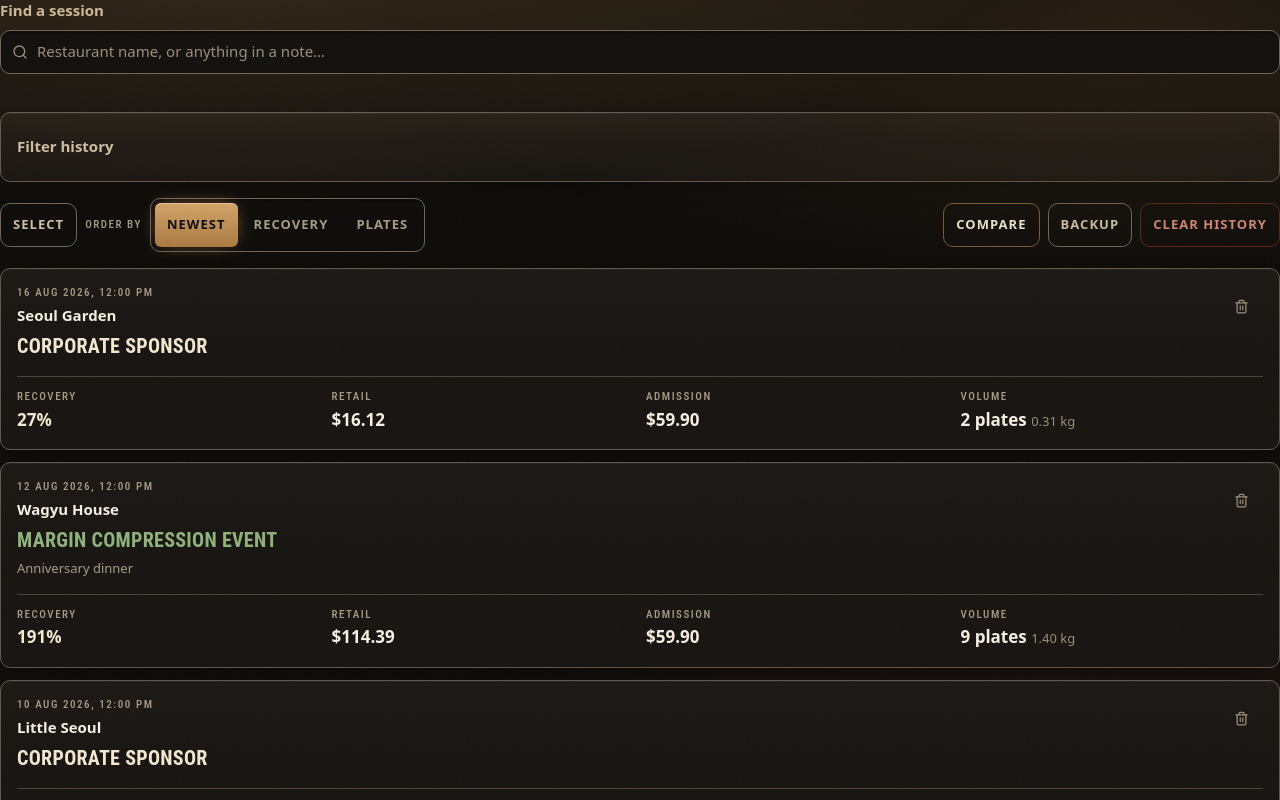
Test: HistoryList › requires confirmation before deleting one record
The width and height of the screenshot is (1280, 800).
Click the button named "delete the record from Seoul Garden".
click(1241, 307)  # box [1219, 285, 1263, 329]
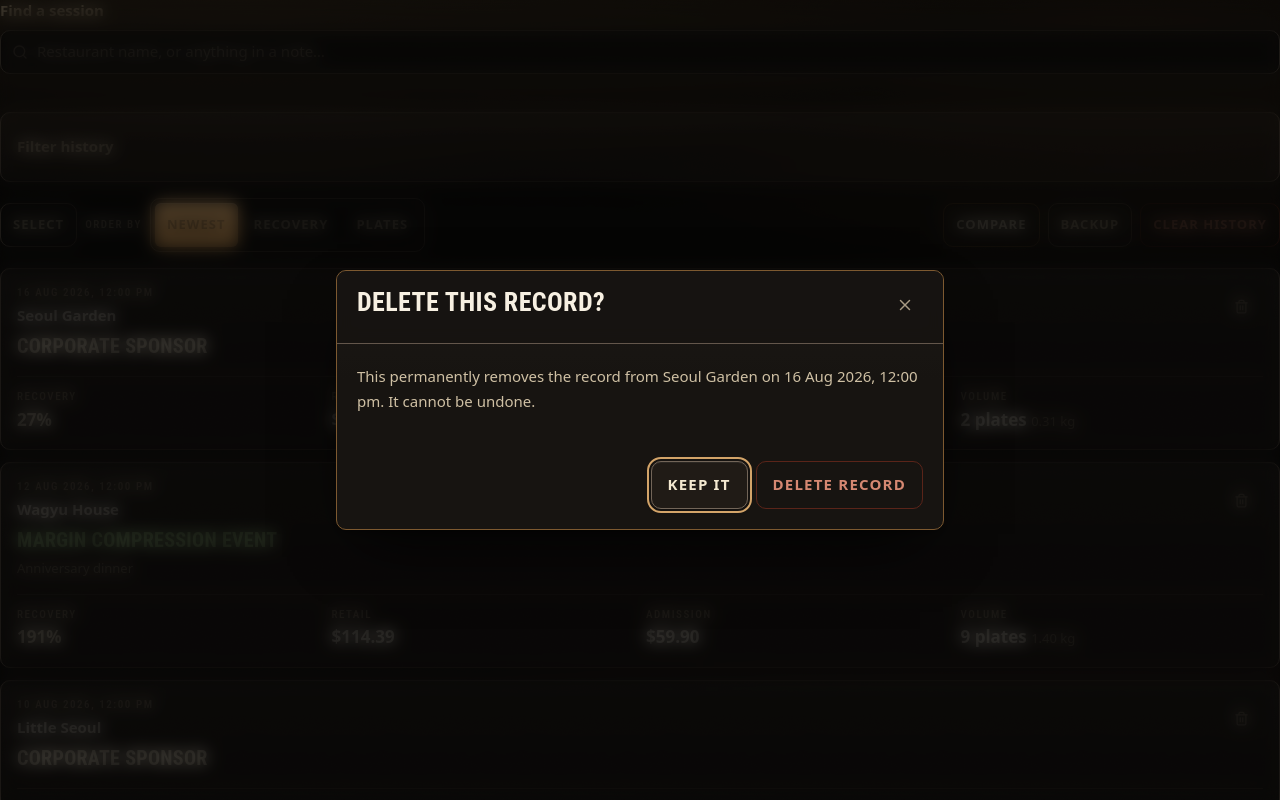
Click the button "Keep it".
click(699, 485)  # box [650, 461, 748, 509]
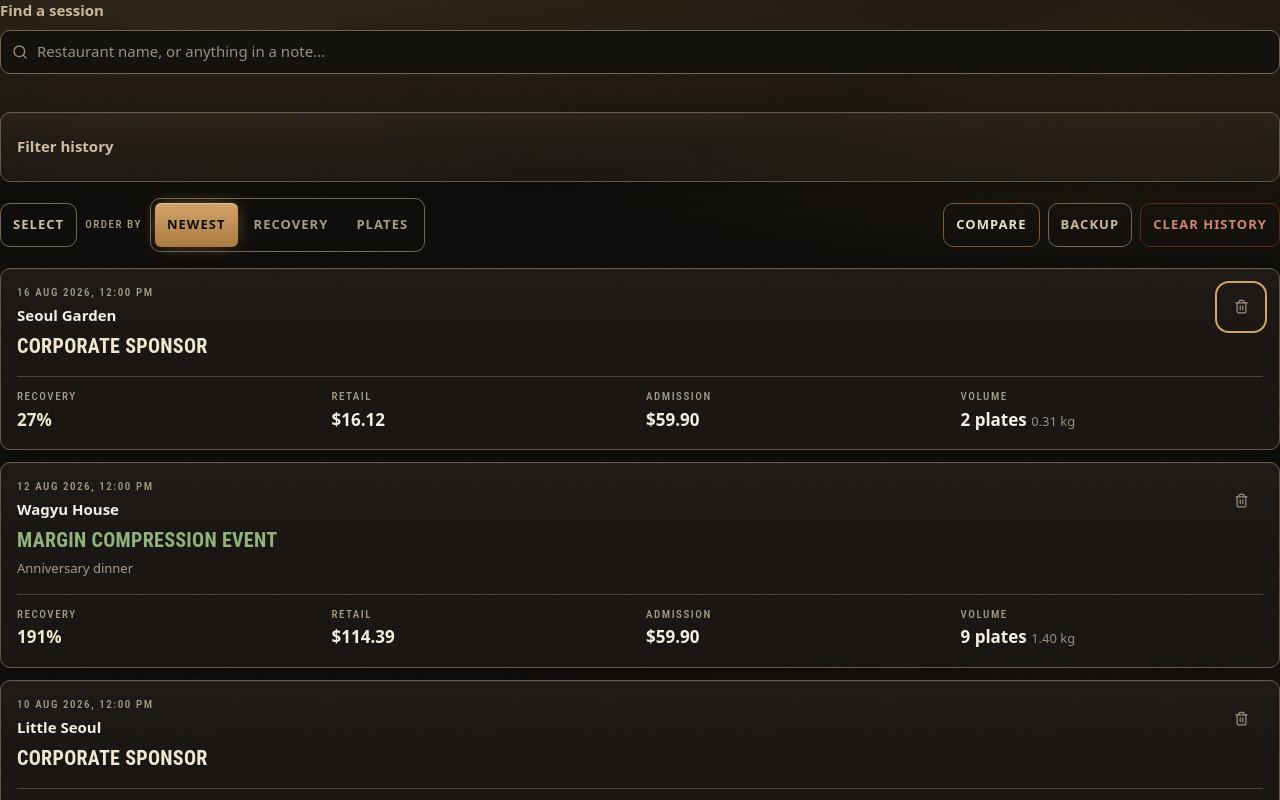
Click the button named "delete the record from Seoul Garden".
click(1241, 307)  # box [1219, 285, 1263, 329]
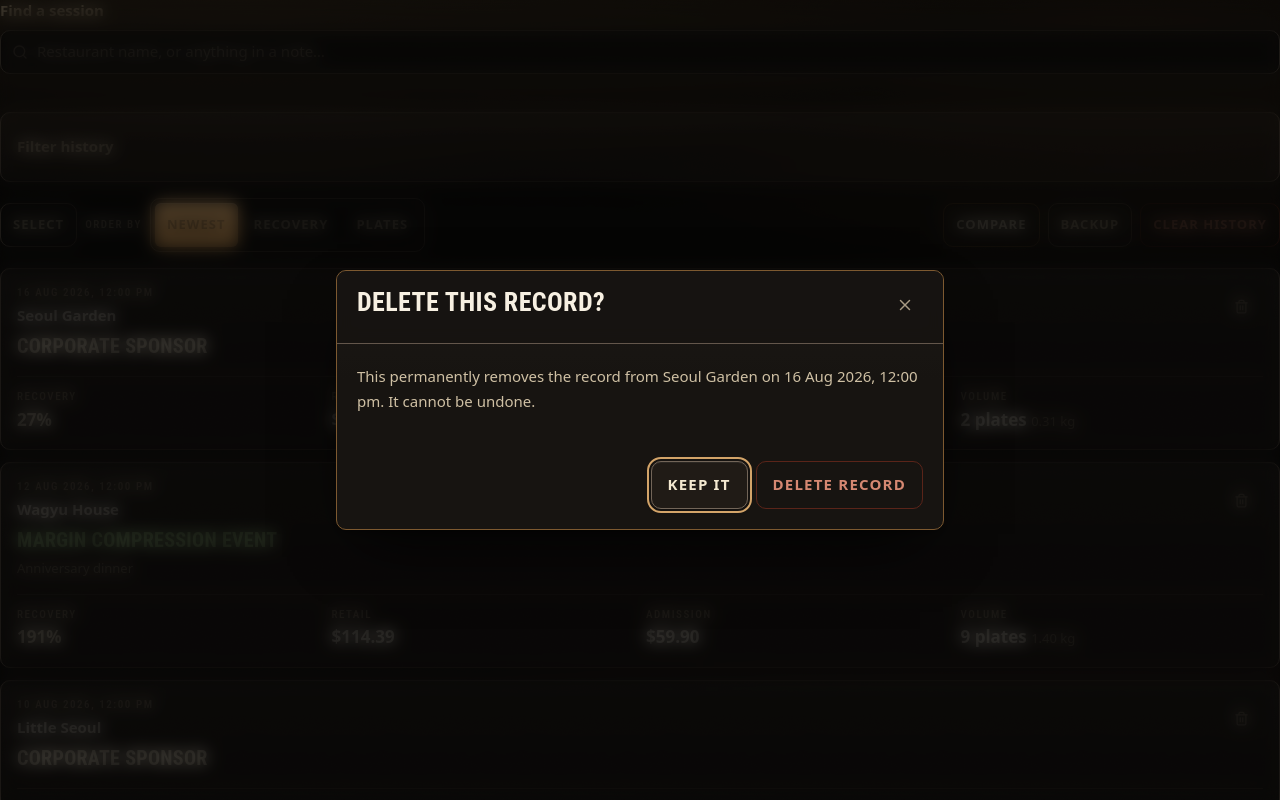
Click the button "Delete record".
click(839, 485)  # box [756, 461, 923, 509]
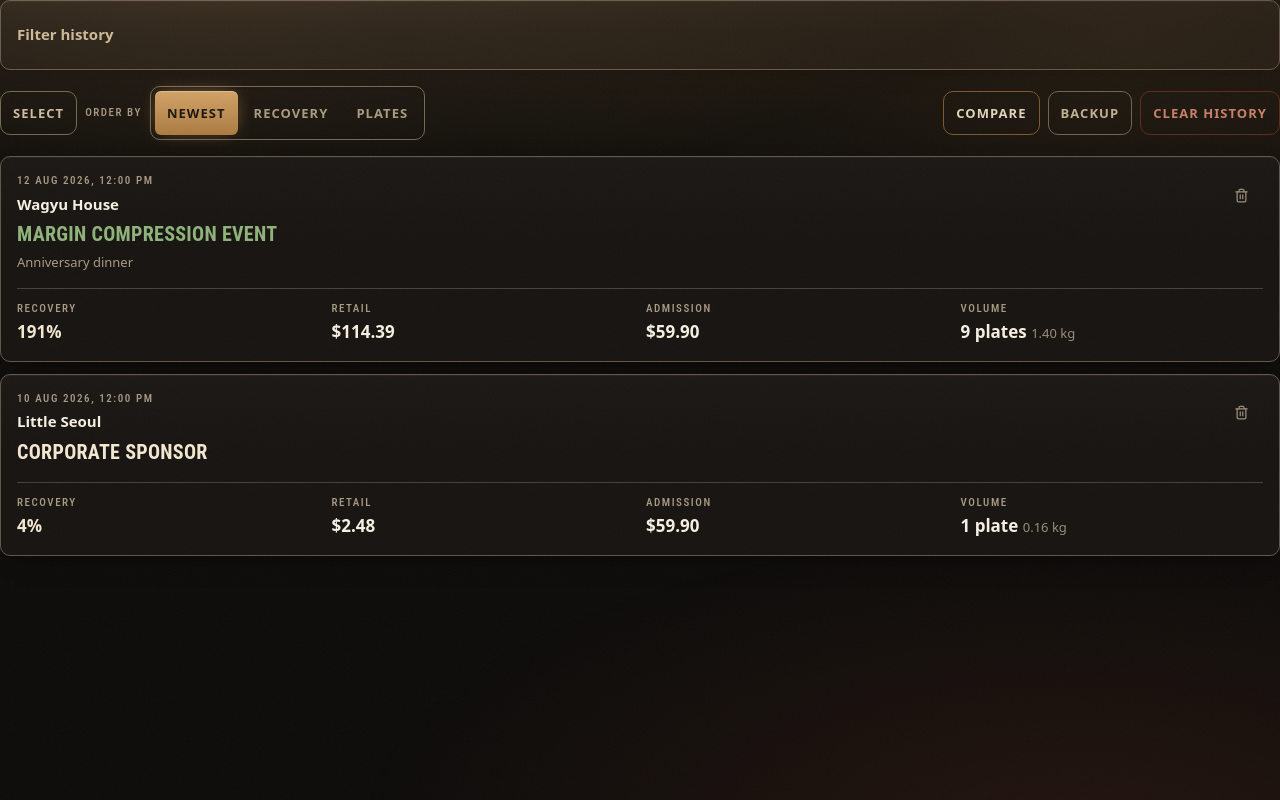
Now the number of list items is 2, box [0, 156, 1279, 362]; [0, 374, 1279, 556]
Now the link "Seoul Garden" is gone
